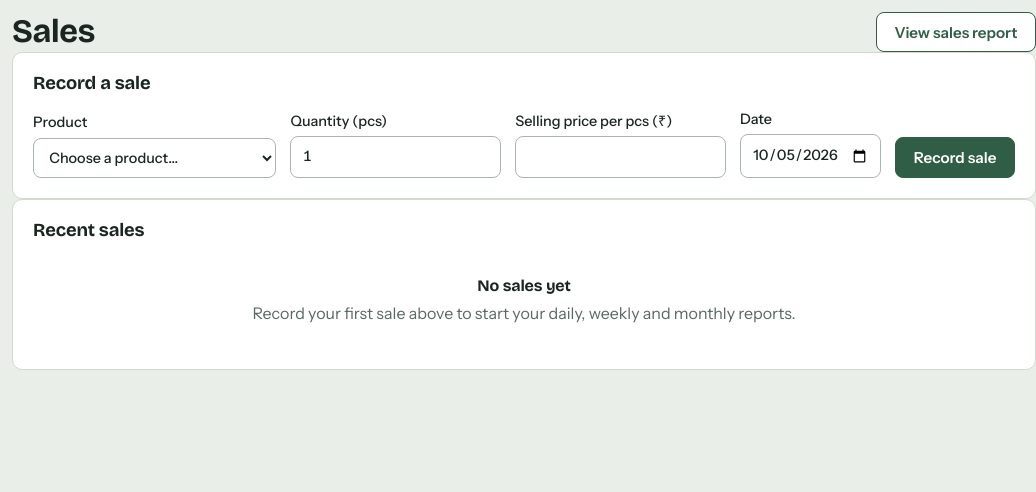
Test: recording a sale posts the form and refreshes the list
This screenshot has width=1036, height=492.
Select "Cake" in the dropdown labelled "Product": (155, 158) [33,138,276,178]
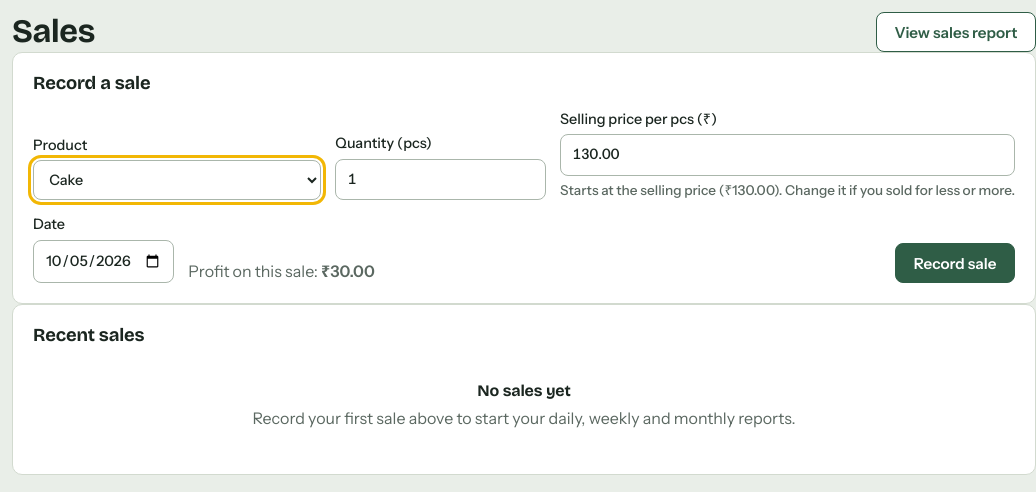
Replace the text in the number field labelled "Quantity (pcs)" with "3": (440, 179) [335,159,546,200]
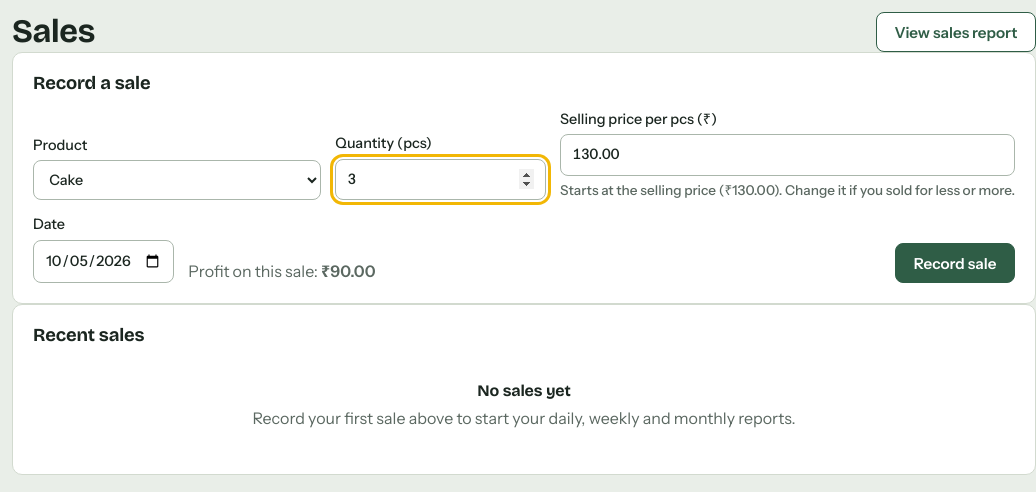
Expected: the number field labelled "Selling price" holds "130"
Replace the text in the number field labelled "Selling price" with "150": (788, 155) [560,134,1015,176]
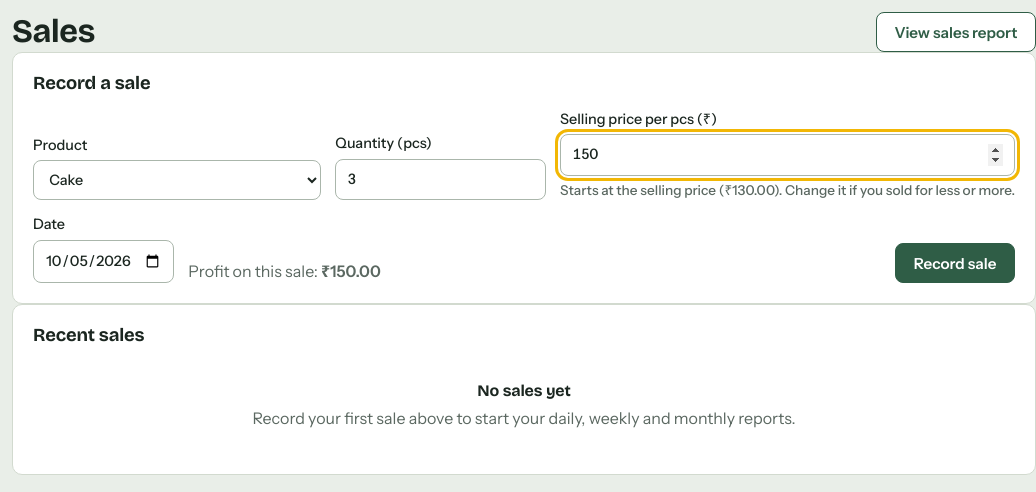
Click the button "Record sale": click(955, 263) [895,243,1015,283]
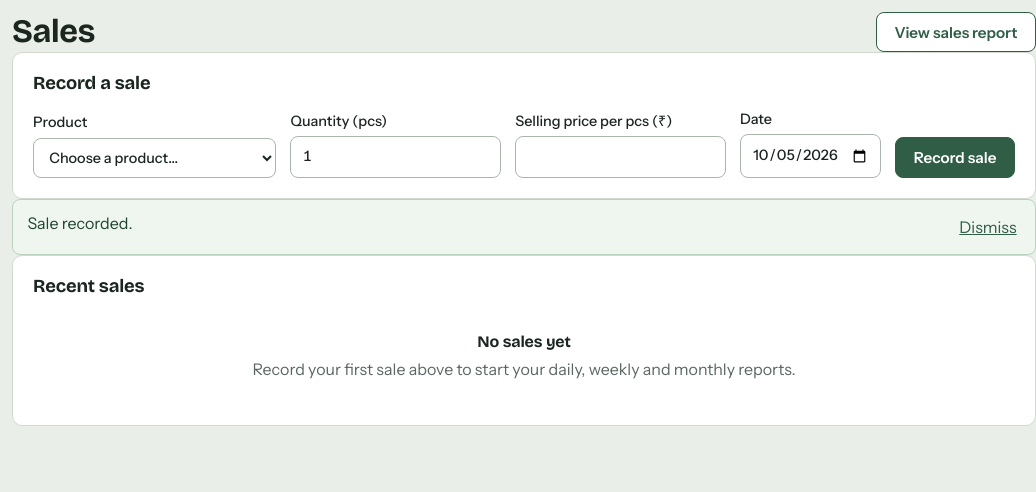
Expected: the text "Sale recorded." is shown, [27,211,132,243]
